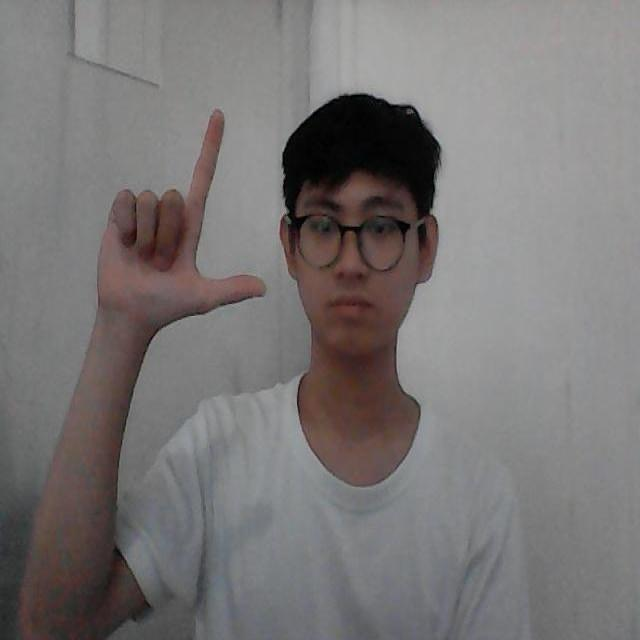L: (83, 92, 280, 349)
